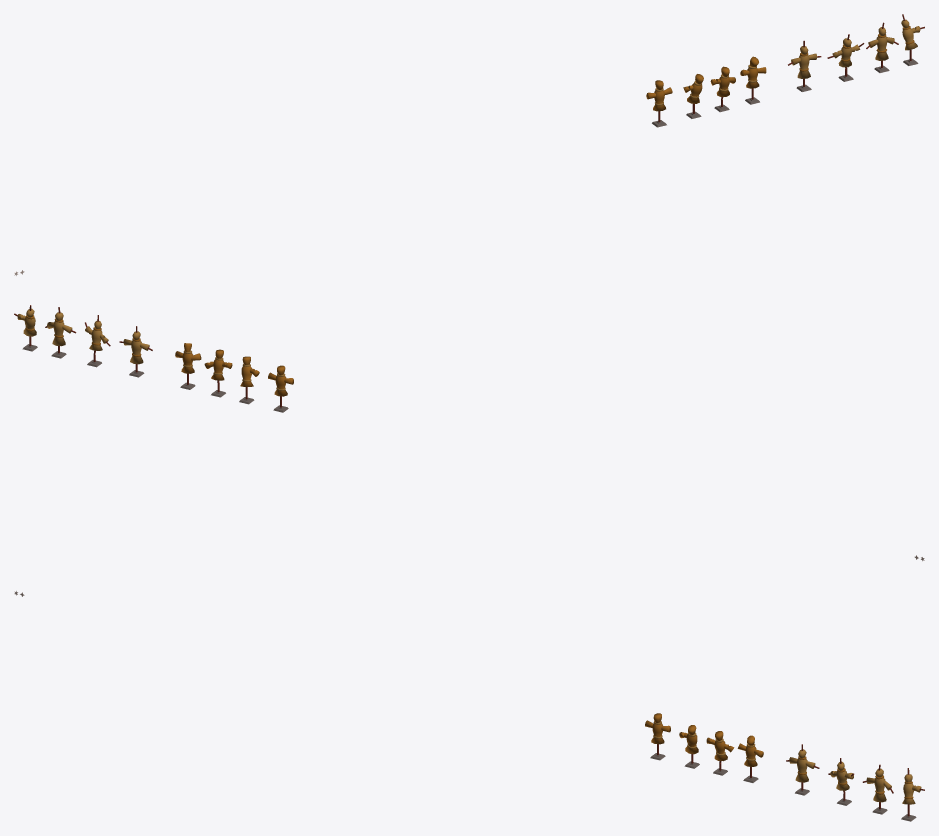
File: semana_8_corrigidos.fbx
The picture shows the model from 3 angles, top to bottom: view 1: azimuth 30°, elevation 25°; view 2: azimuth 150°, elevation 25°; view 3: azimuth 330°, elevation 25°; orthographic projection.
Visible parts, largest first — view 1: dummie_palha_madeira_002, dummie_palha_madeira_001; view 2: dummie_palha_madeira_002, dummie_palha_madeira_001; view 3: dummie_palha_madeira_002, dummie_palha_madeira_001, dummie_palha_004, dummie_palha_001, dummie_palha_002.
Part boxes in pixels (x1=…): dummie_palha_madeira_002: x1=866, y1=22, x2=898, y2=72; dummie_palha_madeira_001: x1=788, y1=40, x2=821, y2=91; dummie_palha_madeira_002: x1=45, y1=307, x2=76, y2=358; dummie_palha_madeira_001: x1=119, y1=326, x2=152, y2=377; dummie_palha_madeira_002: x1=862, y1=764, x2=893, y2=814; dummie_palha_madeira_001: x1=786, y1=744, x2=819, y2=795; dummie_palha_004: x1=706, y1=731, x2=734, y2=775; dummie_palha_001: x1=645, y1=713, x2=670, y2=760; dummie_palha_002: x1=737, y1=735, x2=763, y2=782.
Size of the model in its own units: 3427 by 172 by 69.88.
